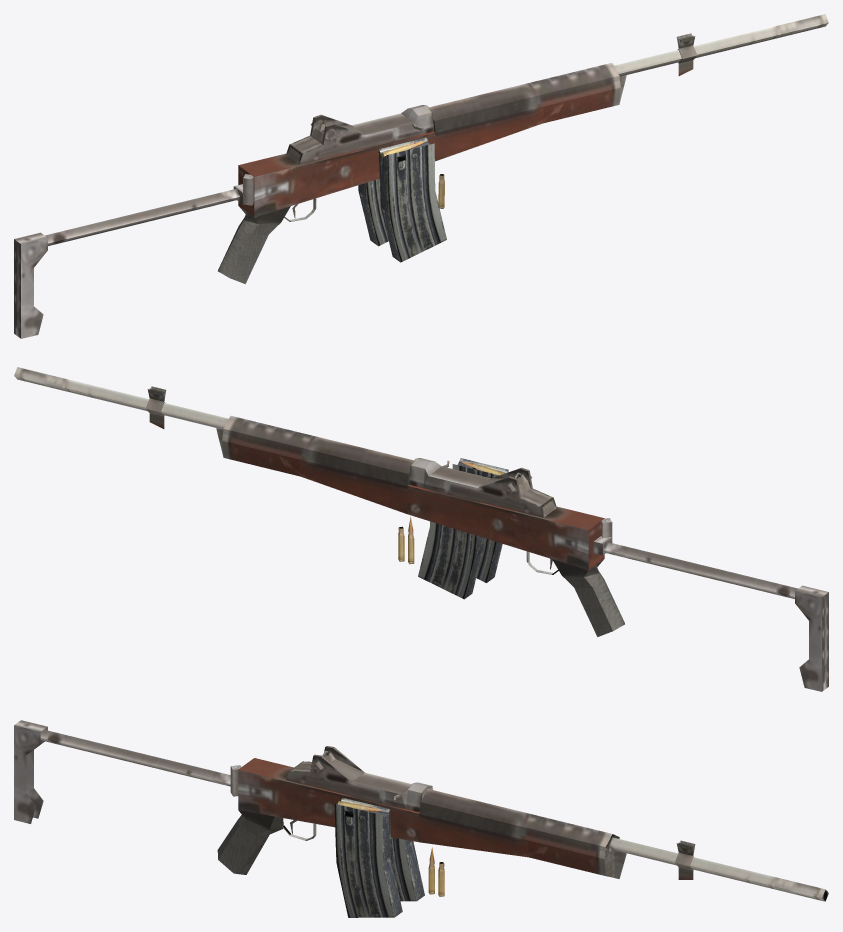
3 views of the same model, one above another, from view 1: azimuth 30°, elevation 25°; view 2: azimuth 150°, elevation 25°; view 3: azimuth 330°, elevation 25° (orthographic).
Visible parts, largest first — view 1: Tac_M14_Body, Tac_M14_Full_Magazene, Tac_M14_Magazene, Tac_M14_Slide; view 2: Tac_M14_Body, Tac_M14_Magazene, Tac_M14_Full_Magazene, Tac_M14_Slide; view 3: Tac_M14_Body, Tac_M14_Full_Magazene, Tac_M14_Magazene, Tac_M14_Slide.
Boxes of the visible parts, bbox=[...] form: Tac_M14_Body: bbox=[14, 14, 828, 338]; Tac_M14_Full_Magazene: bbox=[378, 137, 446, 262]; Tac_M14_Magazene: bbox=[358, 178, 388, 246]; Tac_M14_Slide: bbox=[352, 113, 423, 134]; Tac_M14_Body: bbox=[14, 367, 828, 691]; Tac_M14_Magazene: bbox=[418, 521, 484, 599]; Tac_M14_Full_Magazene: bbox=[452, 458, 508, 582]; Tac_M14_Slide: bbox=[429, 460, 490, 487]; Tac_M14_Body: bbox=[14, 720, 828, 901]; Tac_M14_Full_Magazene: bbox=[334, 797, 402, 917]; Tac_M14_Magazene: bbox=[390, 837, 424, 901]; Tac_M14_Slide: bbox=[352, 772, 411, 802].
Bounding box in the file's own units: 11.47 × 1.95 × 0.8827.
6 materials, 6 textured.
